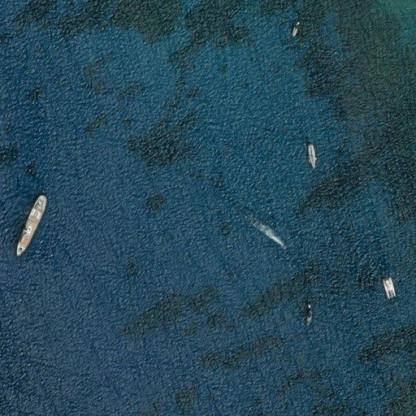ship: (9, 189, 51, 259), (376, 271, 400, 304), (303, 137, 320, 171), (299, 298, 317, 330), (285, 14, 304, 40), (273, 235, 293, 256)
